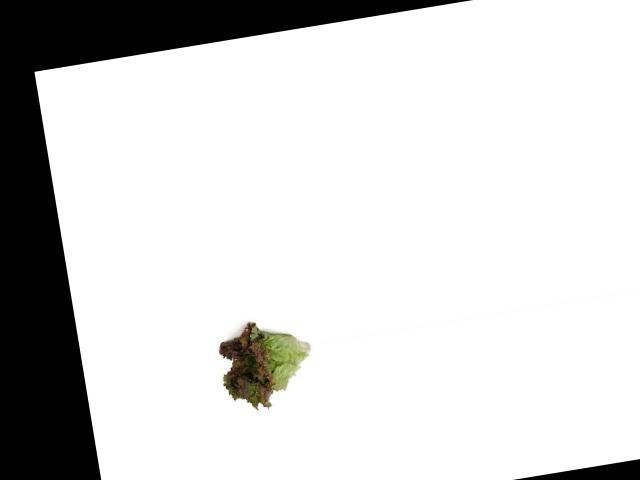lettuce: (201, 305, 321, 420)
